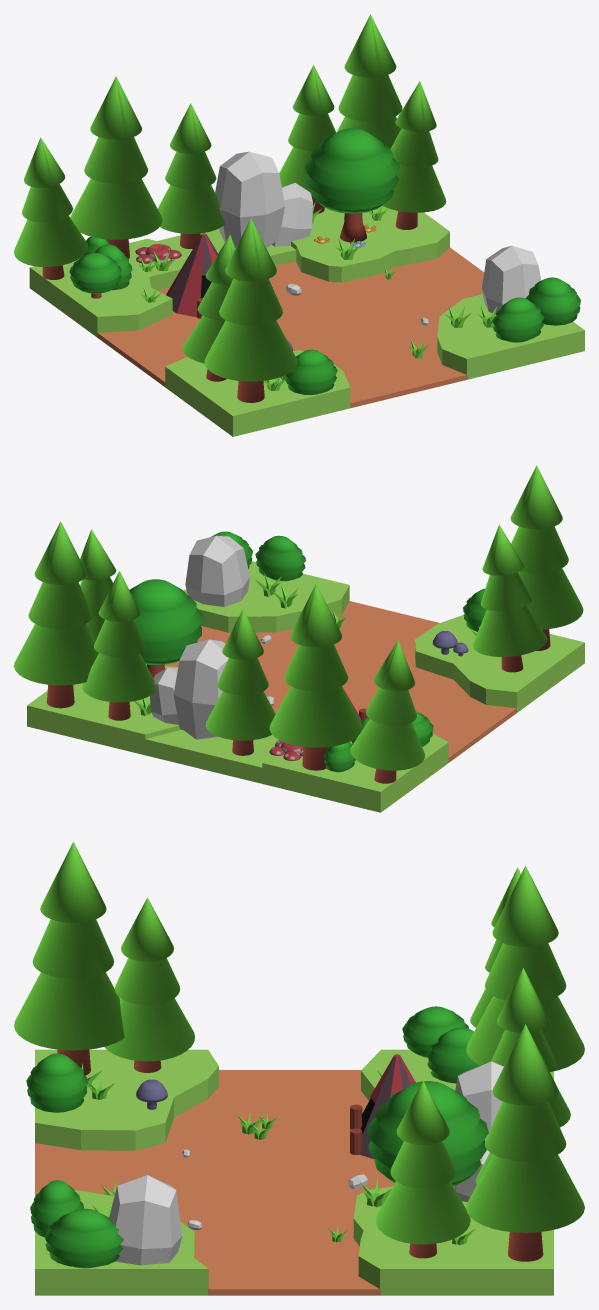
Rendered from jungle level set - 3 Way (1).fbx.
The picture shows the model from 3 angles, top to bottom: view 1: azimuth 30°, elevation 25°; view 2: azimuth 150°, elevation 25°; view 3: azimuth 270°, elevation 25°; orthographic projection. The views are drawn at different scales.
Parts seen in each view (by area): view 1: land_platform, tree_006, tree_008, tree_003, tree_009, tree_007, tree_002, tree_001, stone, tree, stone_004, tree_005 (+8 smaller); view 2: land_platform, tree_008, tree_001, tree_006, tree, tree_005, tree_009, tree_007, tree_003, stone, stone_004, tree_002 (+6 smaller); view 3: land_platform, tree_001, tree_006, tree_008, tree_002, tree_005, tree_003, stone_004, bush, tree_007, bush_005, camp (+6 smaller).
Part boxes in pixels (left/top/right/bottom): land_platform: left=29, top=206, right=584, bottom=436; tree_006: left=204, top=218, right=297, bottom=402; tree_008: left=70, top=76, right=162, bottom=258; tree_003: left=304, top=128, right=399, bottom=242; tree_009: left=14, top=137, right=87, bottom=279; tree_007: left=157, top=103, right=225, bottom=248; tree_002: left=382, top=81, right=446, bottom=229; tree_001: left=336, top=14, right=402, bottom=148; stone: left=215, top=151, right=284, bottom=248; tree: left=279, top=65, right=335, bottom=213; stone_004: left=482, top=245, right=541, bottom=314; tree_005: left=182, top=234, right=235, bottom=381; land_platform: left=27, top=561, right=584, bottom=812; tree_008: left=269, top=583, right=362, bottom=770; tree_001: left=14, top=521, right=98, bottom=708; tree_006: left=510, top=465, right=583, bottom=650; tree: left=82, top=571, right=155, bottom=720; tree_005: left=473, top=524, right=547, bottom=672; tree_009: left=350, top=640, right=424, bottom=783; tree_007: left=205, top=609, right=275, bottom=755; tree_003: left=129, top=579, right=203, bottom=677; stone: left=173, top=639, right=228, bottom=739; stone_004: left=185, top=535, right=249, bottom=606; tree_002: left=80, top=529, right=116, bottom=640; land_platform: left=35, top=1049, right=553, bottom=1295; tree_001: left=466, top=1024, right=584, bottom=1261; tree_006: left=14, top=842, right=124, bottom=1075; tree_008: left=466, top=866, right=584, bottom=1071; tree_002: left=375, top=1080, right=470, bottom=1258; tree_005: left=104, top=897, right=194, bottom=1072; tree_003: left=367, top=1081, right=488, bottom=1186; stone_004: left=109, top=1175, right=182, bottom=1265; bush: left=44, top=1208, right=123, bottom=1268; tree_007: left=491, top=967, right=570, bottom=1127; bush_005: left=26, top=1053, right=87, bottom=1112; camp: left=350, top=1054, right=415, bottom=1159.
Size of the model in its own units: 17.03 by 8.76 by 16.7.
